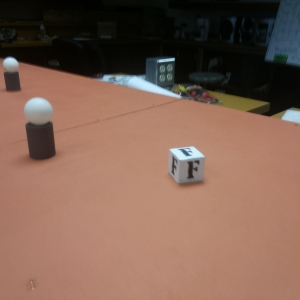obstacle: (23, 95, 57, 160), (3, 57, 20, 94)
